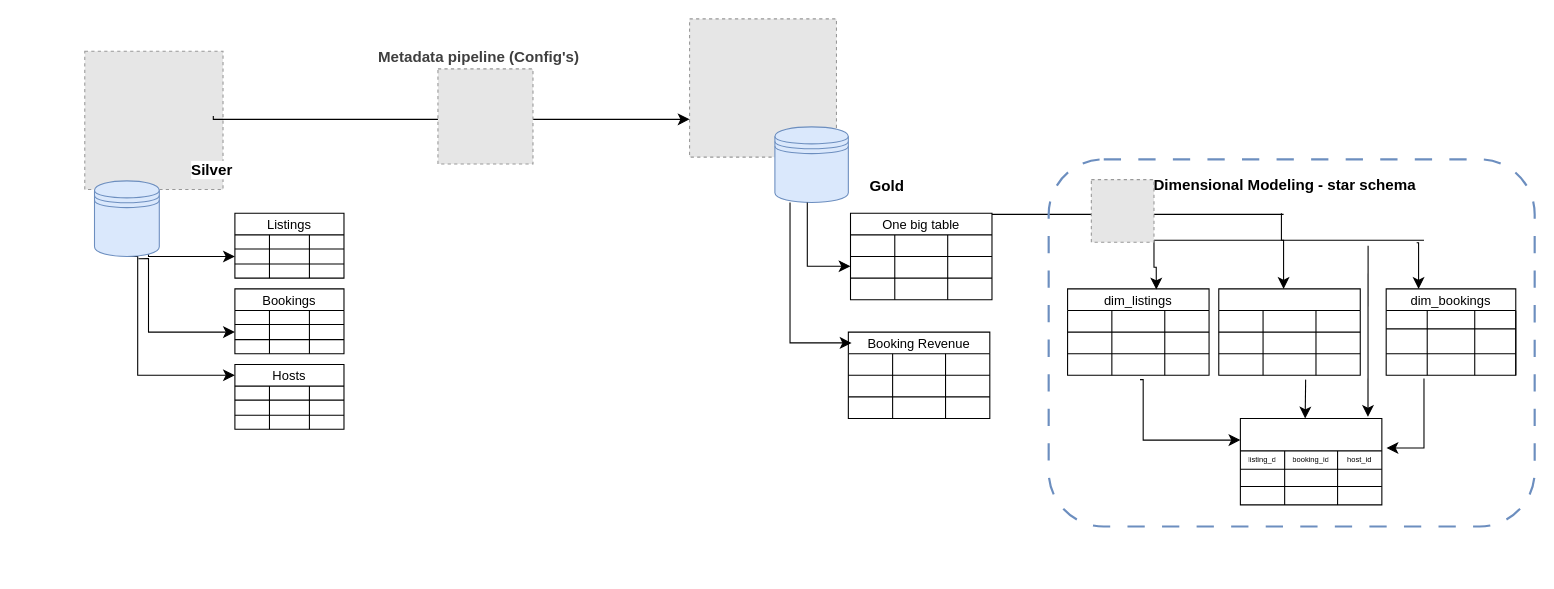
The diagram is 1554 pixels wide and 589 high, and some of its shapes have lost their labels. Grey dashed boxes stand in for pictures. The shapes that lost their labels are listed below. From the top down, each one's box as (x1, y1, x2, y2) in pixels, then its label:
(1218, 288, 1360, 375): diim_hosts
(1239, 417, 1382, 505): fact_airbnb
